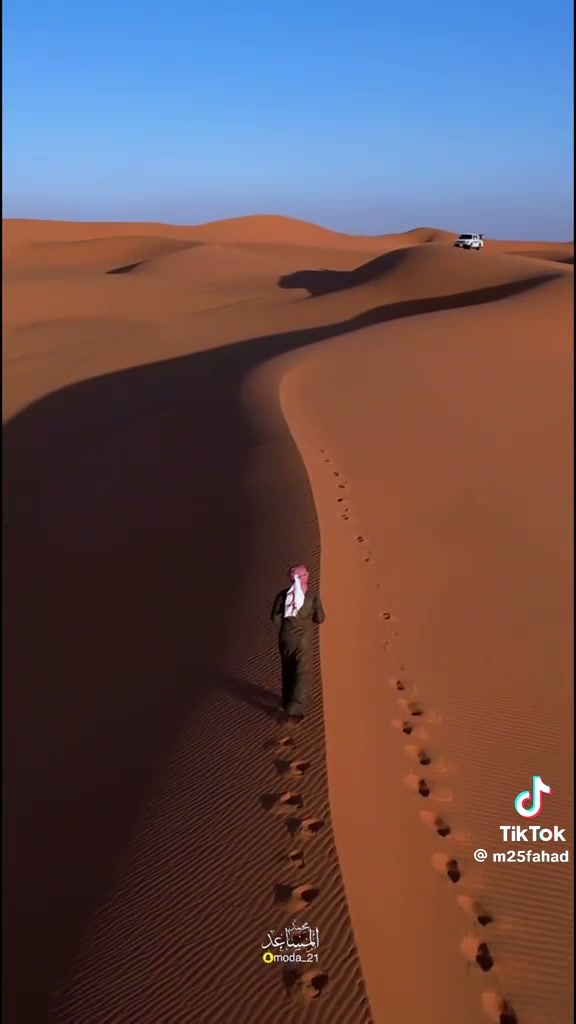human_footprint: (271, 565, 324, 722), (389, 673, 451, 802), (283, 967, 328, 1002), (404, 772, 452, 803), (274, 883, 319, 913), (460, 934, 494, 972), (457, 894, 493, 927), (482, 991, 518, 1023), (260, 791, 303, 816), (286, 816, 324, 842), (432, 851, 461, 883), (420, 811, 452, 837), (263, 733, 295, 756), (274, 757, 310, 777)
